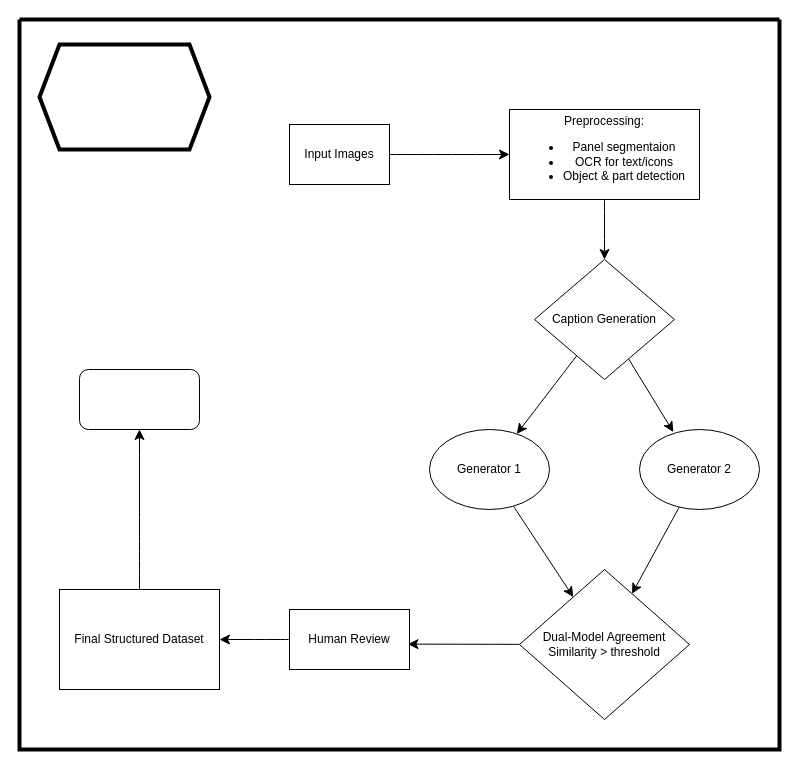
The diagram is 798 pixels wide and 768 high, and some of its shapes have lost their labels. Each missing label, with the box of its shape:
Fine-Tune: (78, 368, 200, 430)
Textual Data Generation: (37, 42, 211, 151)
